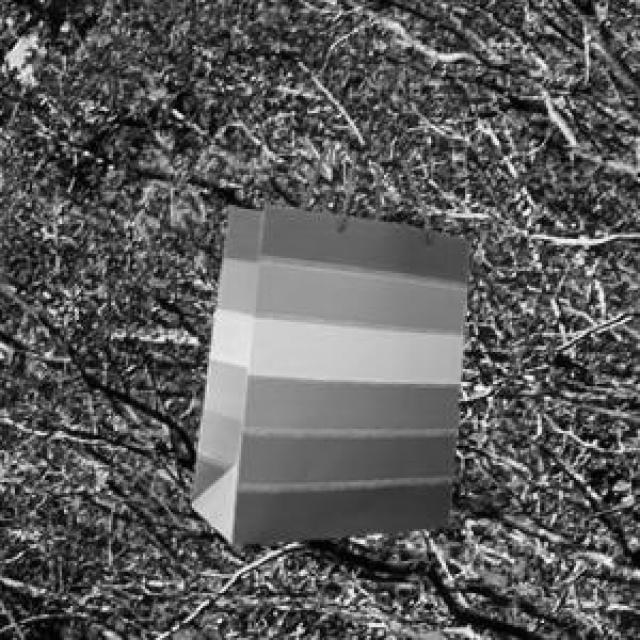paper: (188, 152, 467, 540)
